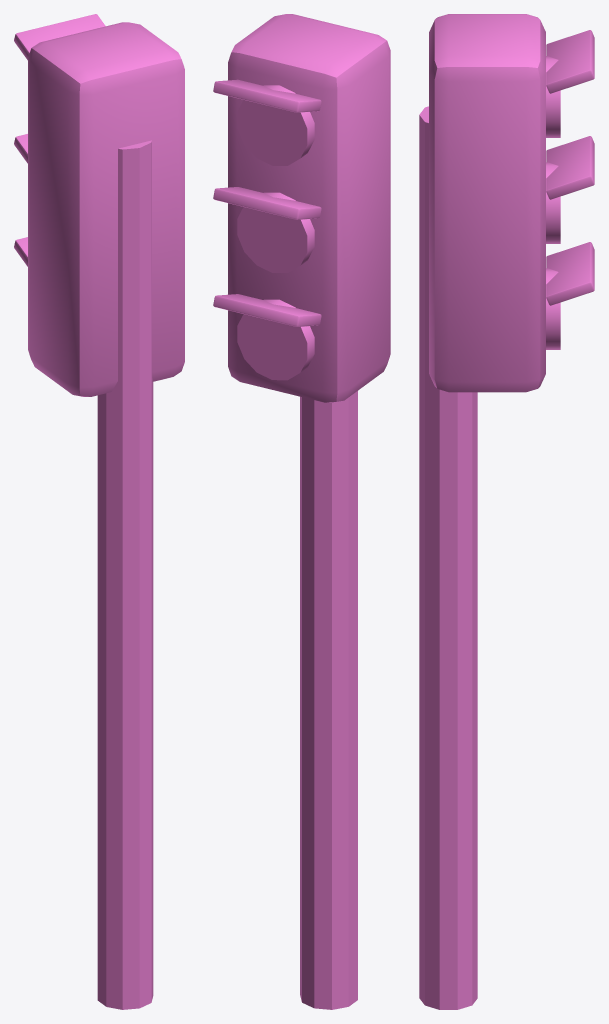
Rendered from Street_TrafficLight.fbx.
3 renders of one model, left to right at view 1: azimuth 30°, elevation 25°; view 2: azimuth 150°, elevation 25°; view 3: azimuth 270°, elevation 25°, orthographic. The views are drawn at different scales.
Parts seen in each view (by area): view 1: TrafficLight; view 2: TrafficLight; view 3: TrafficLight.
Part boxes in pixels (x1,y1,x2,y2): TrafficLight: (14, 14, 184, 1009); TrafficLight: (213, 14, 390, 1009); TrafficLight: (419, 14, 594, 1009).
Size of the model in its own units: 1.4 by 10.9 by 1.8.
Materials: 1 (1 with a texture image).
